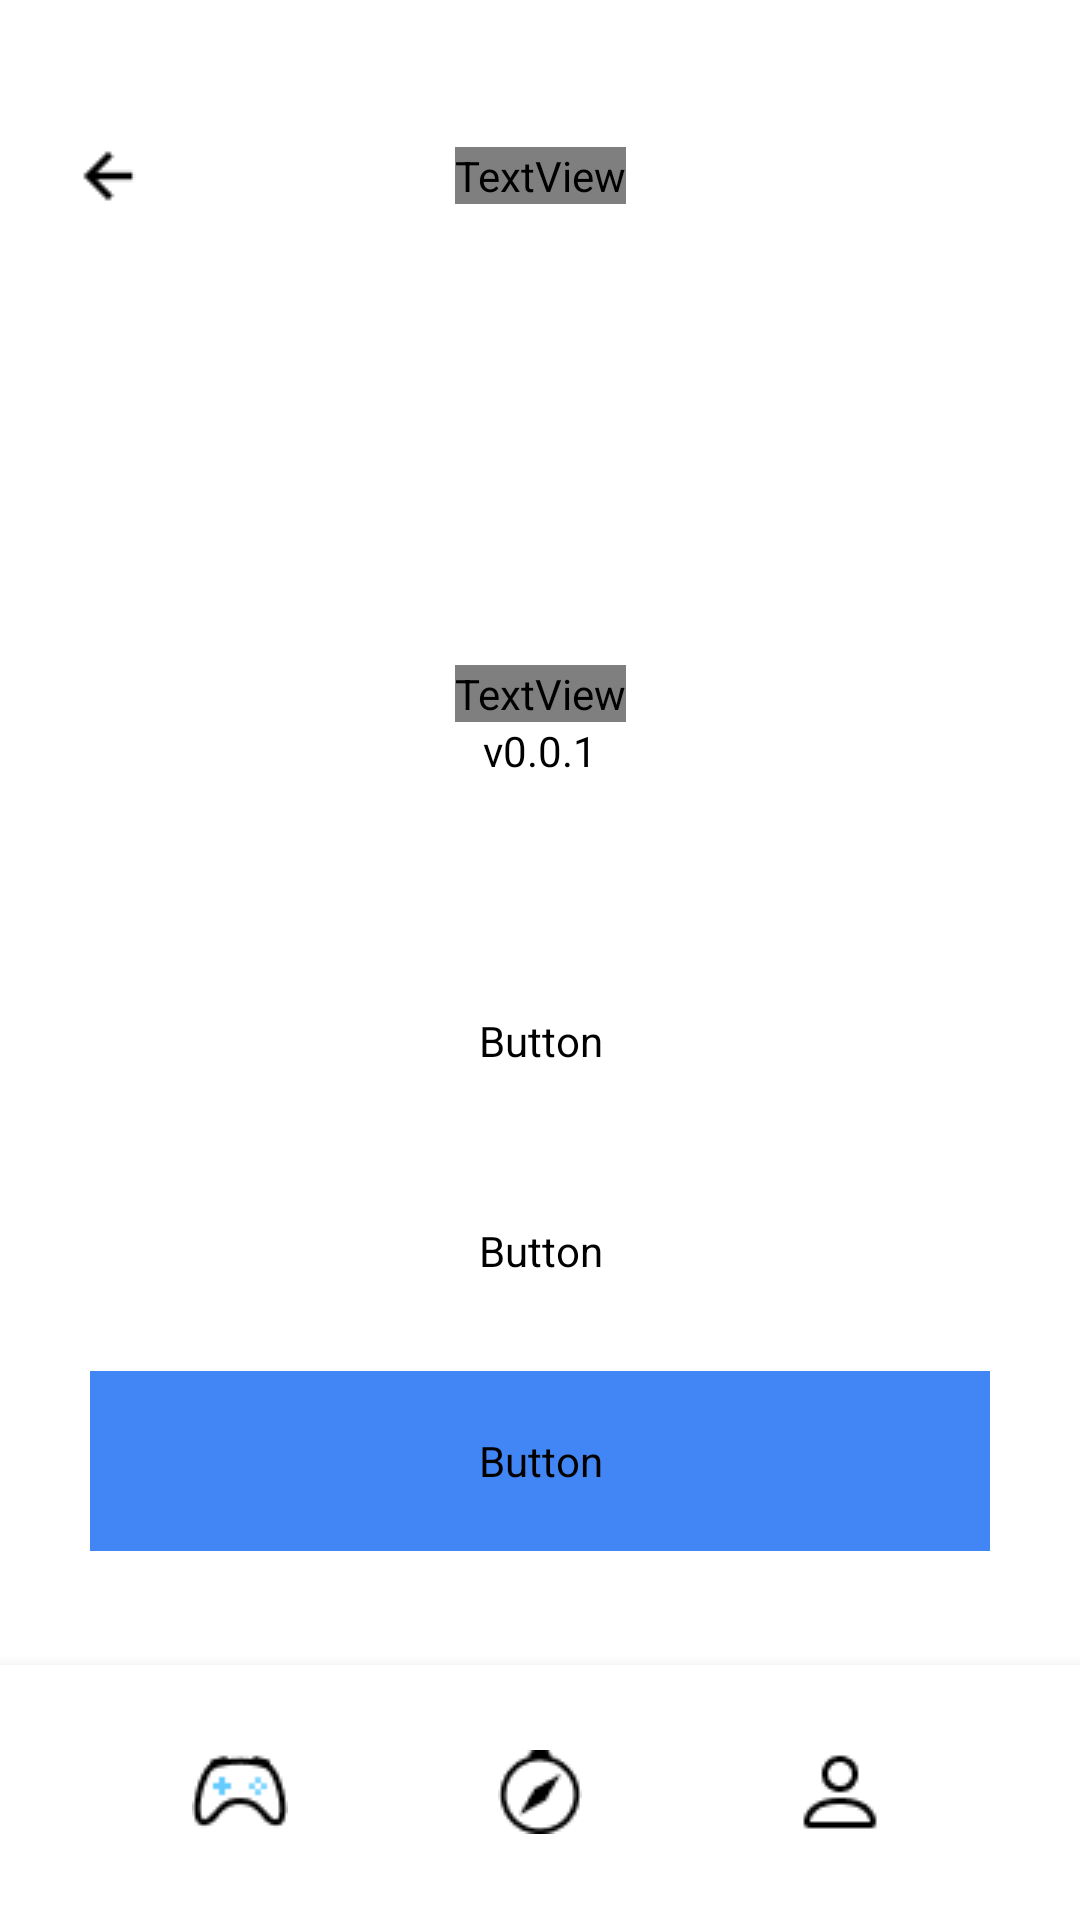

Icons on this 1080w x 1920h Android screen, each with the point to tap as (x,y):
account: (840,1792)
arrow back: (108,176)
compass: (540,1792)
controller: (240,1790)
